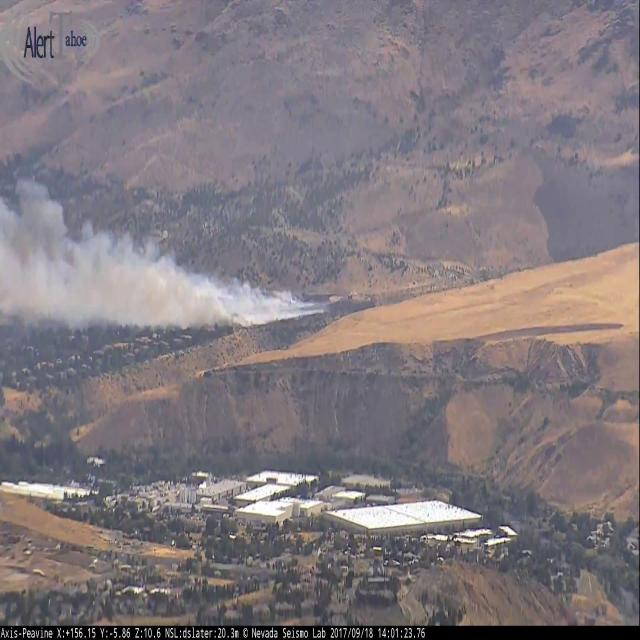smoke: (0, 177, 338, 331)
